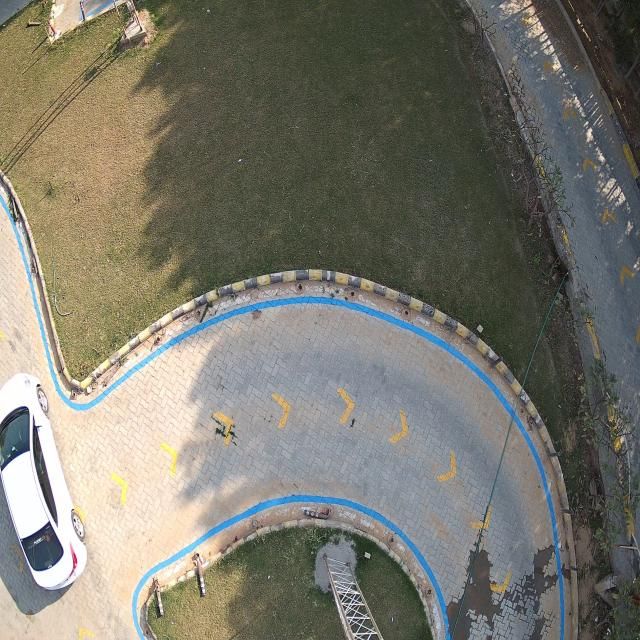car: (0, 373, 86, 590)
